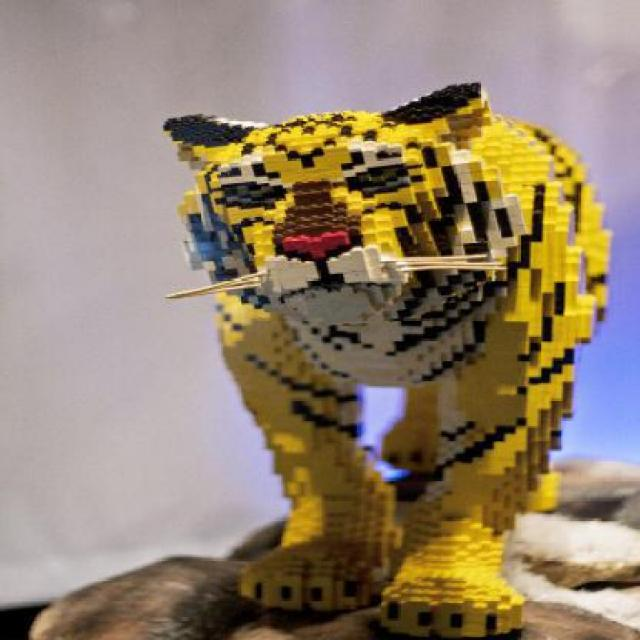Tiger: (158, 77, 614, 638)
